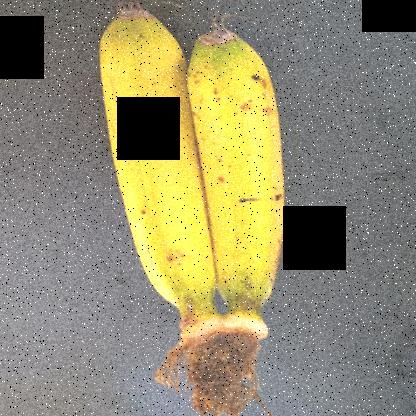freshripe: (88, 5, 226, 319)
ripe: (180, 15, 316, 301)
